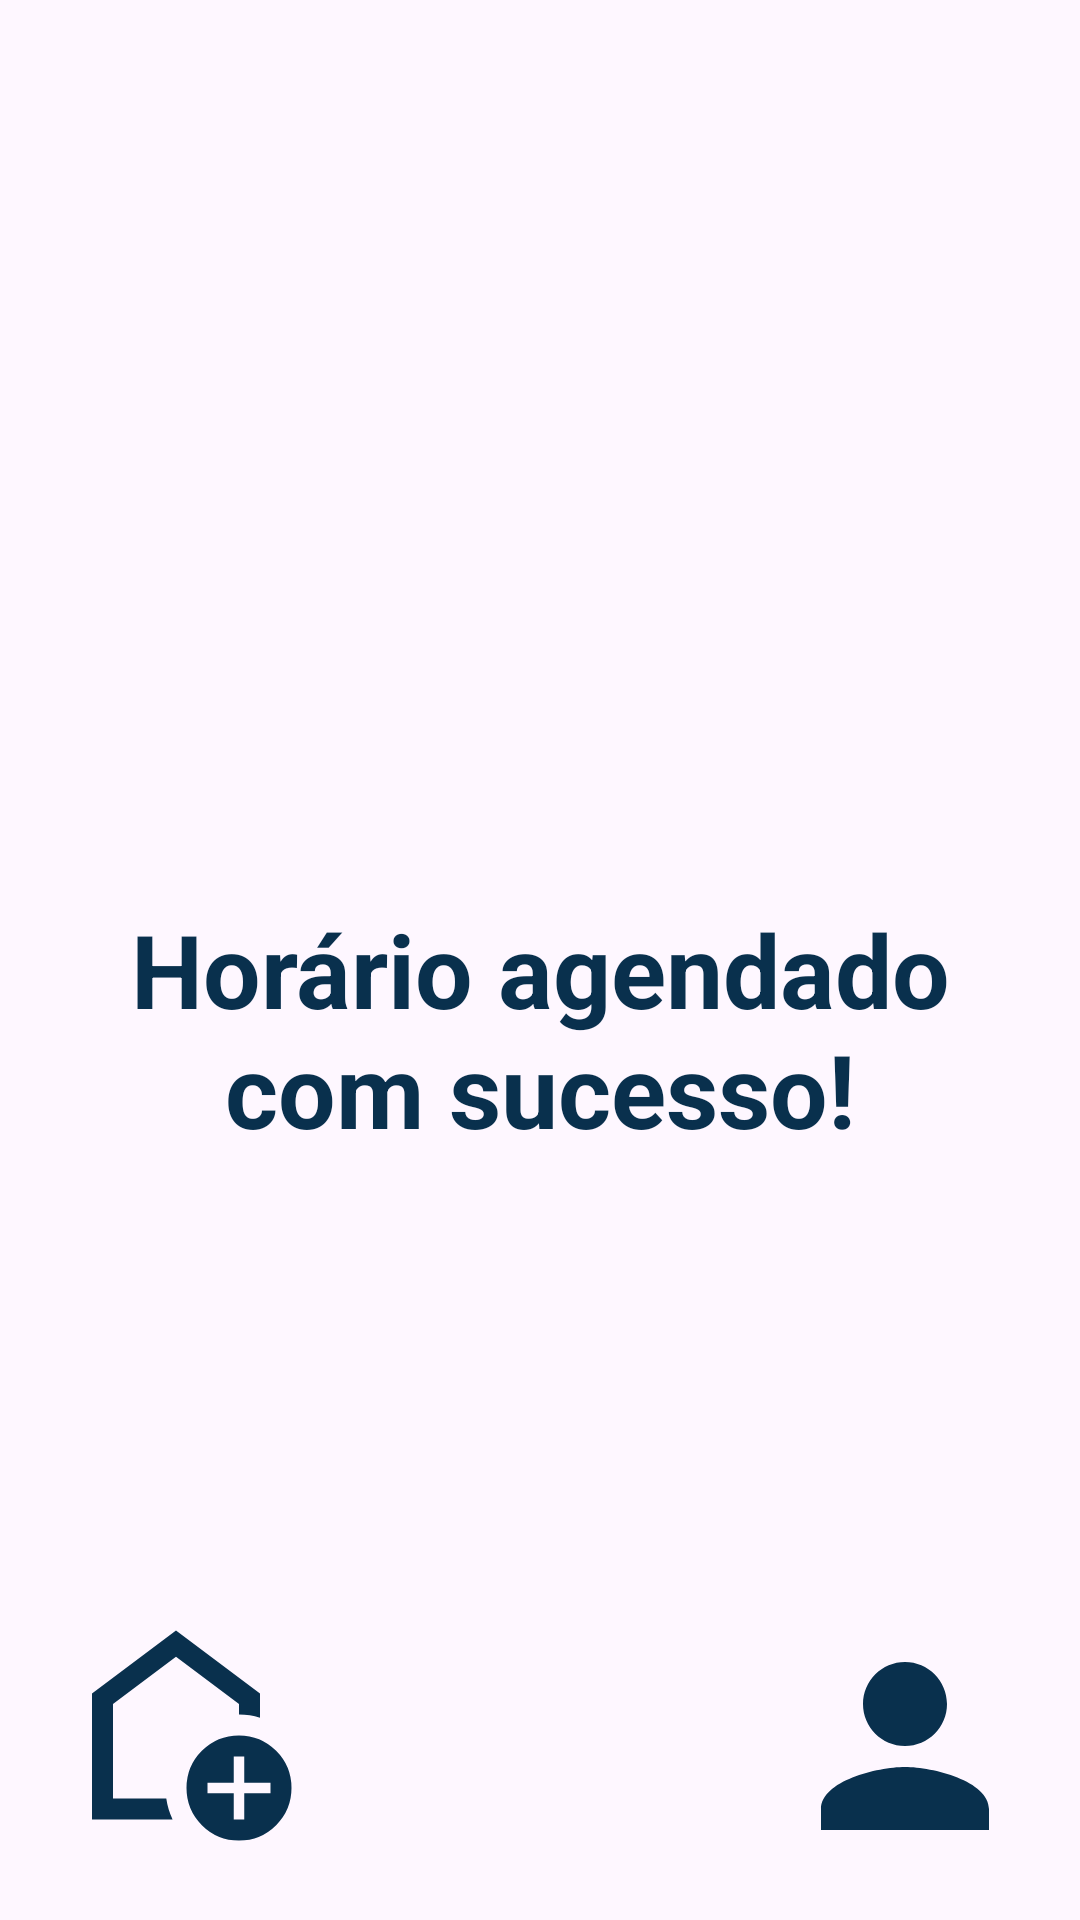

Icons on this 1080px×1920px Android screen, each with the point to tap as (x,y):
home: (192,1735)
pessoa: (905,1746)
